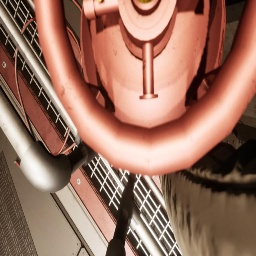NitrogenTank ,: (33, 0, 256, 178)
